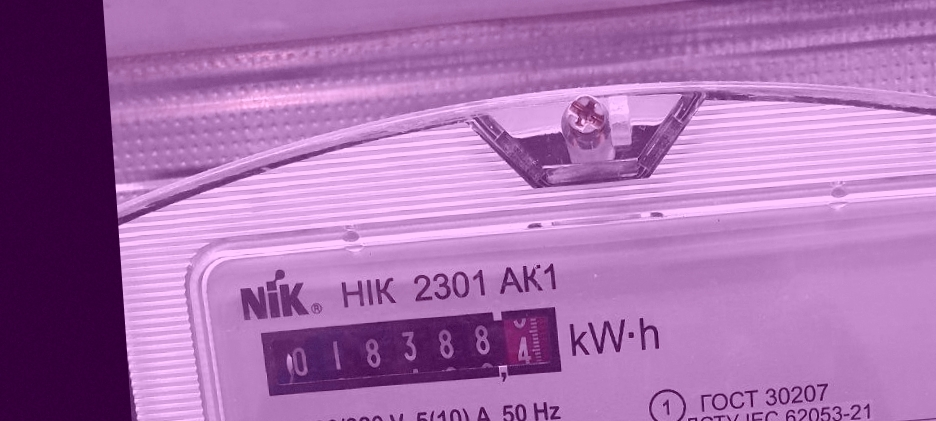0: (288, 342, 310, 379)
1: (325, 334, 346, 372)
3: (398, 327, 420, 363)
4: (511, 331, 534, 366)
8: (360, 333, 384, 370), (470, 320, 493, 357), (434, 326, 456, 362)
screen: (251, 296, 574, 407)
